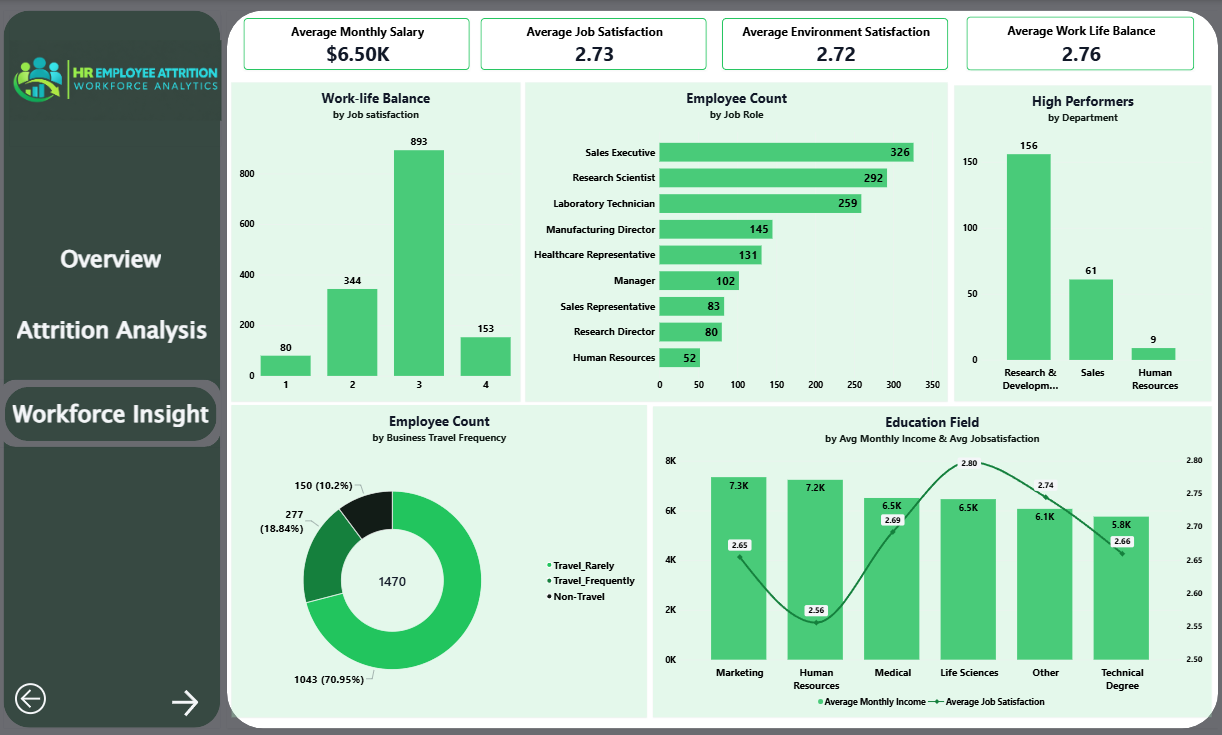

The dashboard page shown, as its layout file describes it:
{"tool":"powerbi","page":{"name":"Workforce Insight","canvas":[2500,1500],"ordinal":2},"visuals":[{"type":"shape","box":[10,21.7,441.7,1461.7],"z":0},{"type":"shape","box":[463.3,20,2020,1463.3],"z":1000},{"type":"actionButton","box":[11.7,473.3,431.1,110.1],"z":2000},{"type":"shape","box":[0,773.5,452.5,137.6],"z":3000},{"type":"actionButton","box":[15.4,616.8,431.1,110.1],"z":4000},{"type":"actionButton","box":[13.3,790,431.1,110.1],"z":5000},{"type":"image","box":[20,31.7,431.7,266.7],"z":6000},{"type":"barChart","title":"Employee Count","fields":{"Y":["CountNonNull(HR.EmployeeCount)"],"Category":["HR.JobRole"]},"box":[1073.3,166.7,860,650],"z":7000},{"type":"cardVisual","fields":{"Data":["HR.Average Job Satisfaction"]},"box":[981.3,36.7,461.6,107],"z":8000},{"type":"cardVisual","fields":{"Data":["HR.Average Monthly Salary"]},"box":[498.3,36.7,461.6,107],"z":9000},{"type":"cardVisual","title":"Average Job","fields":{"Data":["HR.Average Environment Satisfaction"]},"box":[1473.5,36.7,461.6,107],"z":10000},{"type":"cardVisual","fields":{"Data":["HR.Average Work Life Balance"]},"box":[1971.8,33.6,464.7,110.1],"z":11000},{"type":"columnChart","title":"Work-life Balance","fields":{"Category":["HR.WorkLifeBalance"],"Y":["CountNonNull(HR.JobSatisfaction)"]},"box":[473.3,166.7,588.3,650],"z":12000},{"type":"donutChart","title":"Employee Count","fields":{"Category":["HR.BusinessTravel"],"Y":["HR.Total Employees"]},"box":[473.3,826.7,846.7,636.7],"z":13000},{"type":"lineStackedColumnComboChart","title":"Education Field","fields":{"Category":["HR.EducationField"],"Y":["HR.Average Monthly Income"],"Y2":["HR.Average Job Satisfaction"]},"box":[1333.3,830,1138.3,633.3],"z":14000},{"type":"columnChart","title":"High Performers","fields":{"Category":["HR.Department"],"Y":["HR.High Performer"]},"box":[1948.3,173.3,523.3,643.3],"z":15000},{"type":"actionButton","box":[25,1385,78.8,76.2],"z":16000},{"type":"actionButton","box":[346.7,1393.3,64.8,77.1],"z":17000}]}

Visuals, with their boxes in screenshot pixels (x1, y1, x2, y2), scaled from the page's 2500x1500 canvas onto the 1222x735 screenshot:
shape: region(5, 11, 221, 727)
shape: region(226, 10, 1214, 727)
actionButton: region(6, 232, 216, 286)
shape: region(0, 379, 221, 446)
actionButton: region(8, 302, 218, 356)
actionButton: region(7, 387, 217, 441)
image: region(10, 16, 221, 146)
"Employee Count" barChart: region(525, 82, 945, 400)
cardVisual - HR.Average Job Satisfaction: region(480, 18, 705, 70)
cardVisual - HR.Average Monthly Salary: region(244, 18, 469, 70)
"Average Job" cardVisual: region(720, 18, 946, 70)
cardVisual - HR.Average Work Life Balance: region(964, 16, 1191, 70)
"Work-life Balance" columnChart: region(231, 82, 519, 400)
"Employee Count" donutChart: region(231, 405, 645, 717)
"Education Field" lineStackedColumnComboChart: region(652, 407, 1208, 717)
"High Performers" columnChart: region(952, 85, 1208, 400)
actionButton: region(12, 679, 51, 716)
actionButton: region(169, 683, 201, 720)
